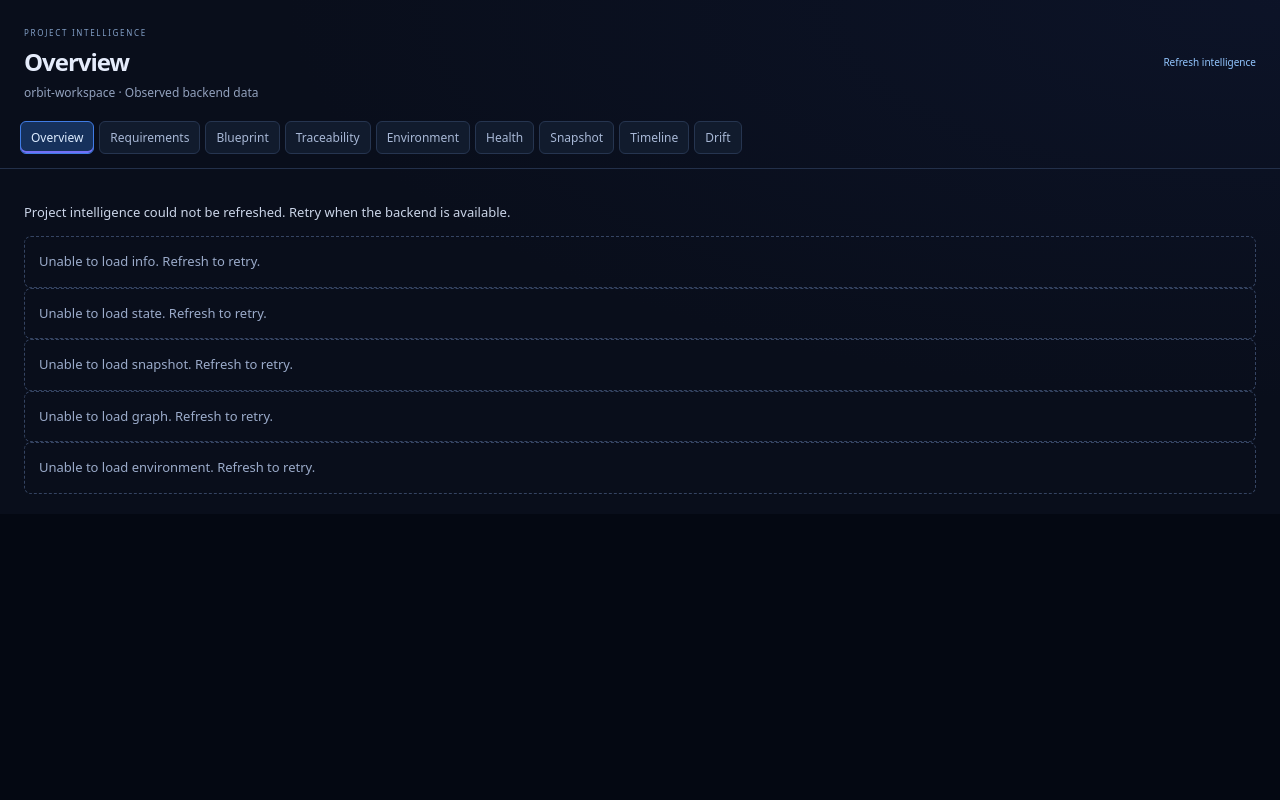
it: shows errors and can retry a failed refresh
Expected: the text "Unable to load info. Refresh to retry." is shown, [24,236,1256,288]
Click the button "Refresh intelligence" at point(1210, 62), box [1163,50,1256,74]
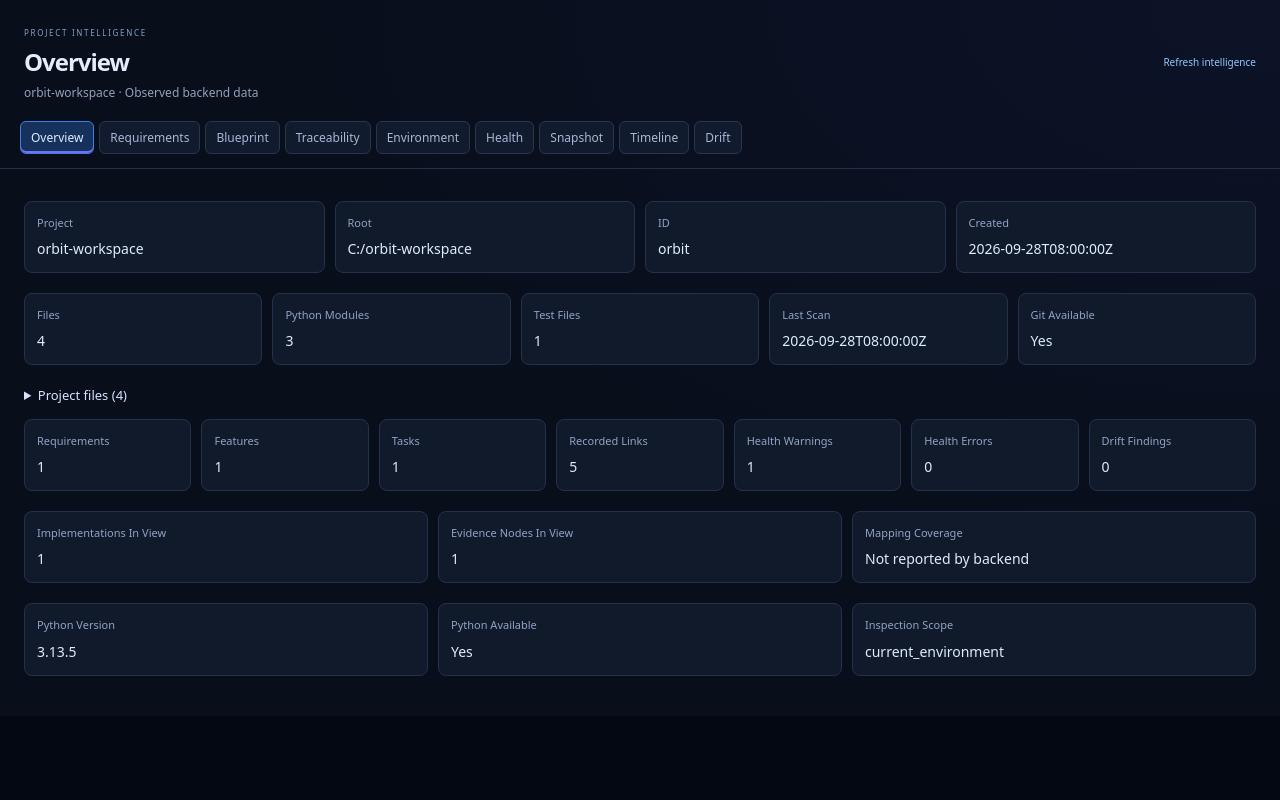
Expected: the text "C:/orbit-workspace" is shown, [348,239,472,258]
